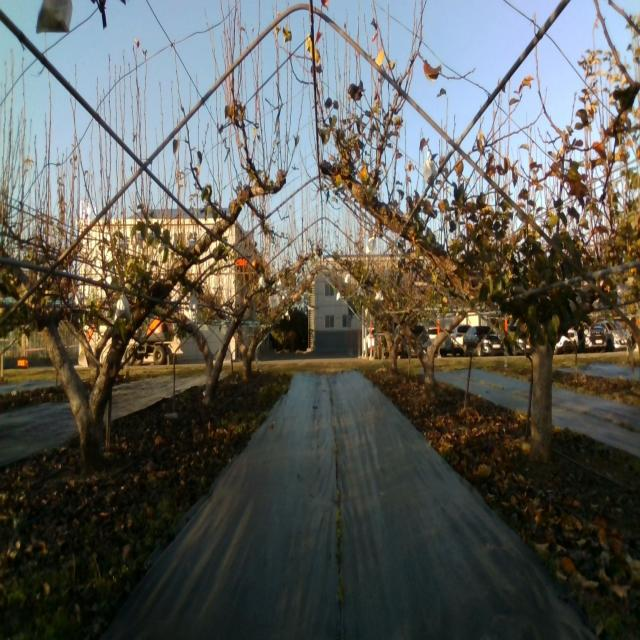pearbags: (36, 0, 73, 36), (114, 294, 131, 321), (423, 158, 435, 188)
